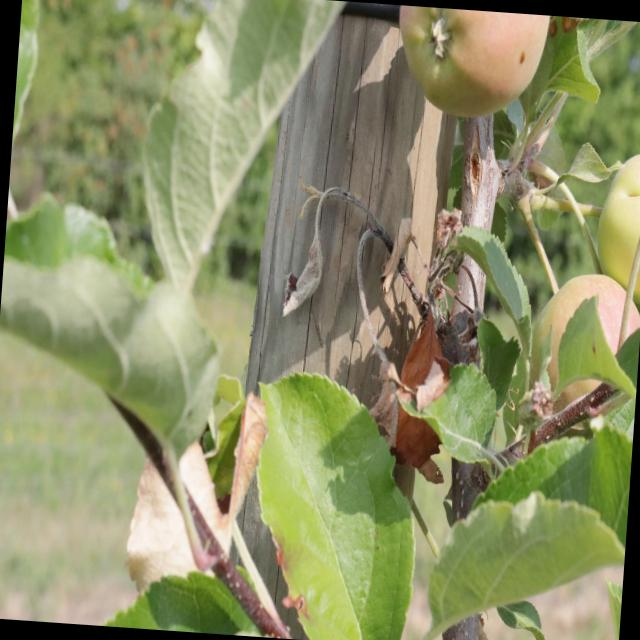-FireBlight-: (341, 193, 461, 488), (282, 172, 340, 326)
